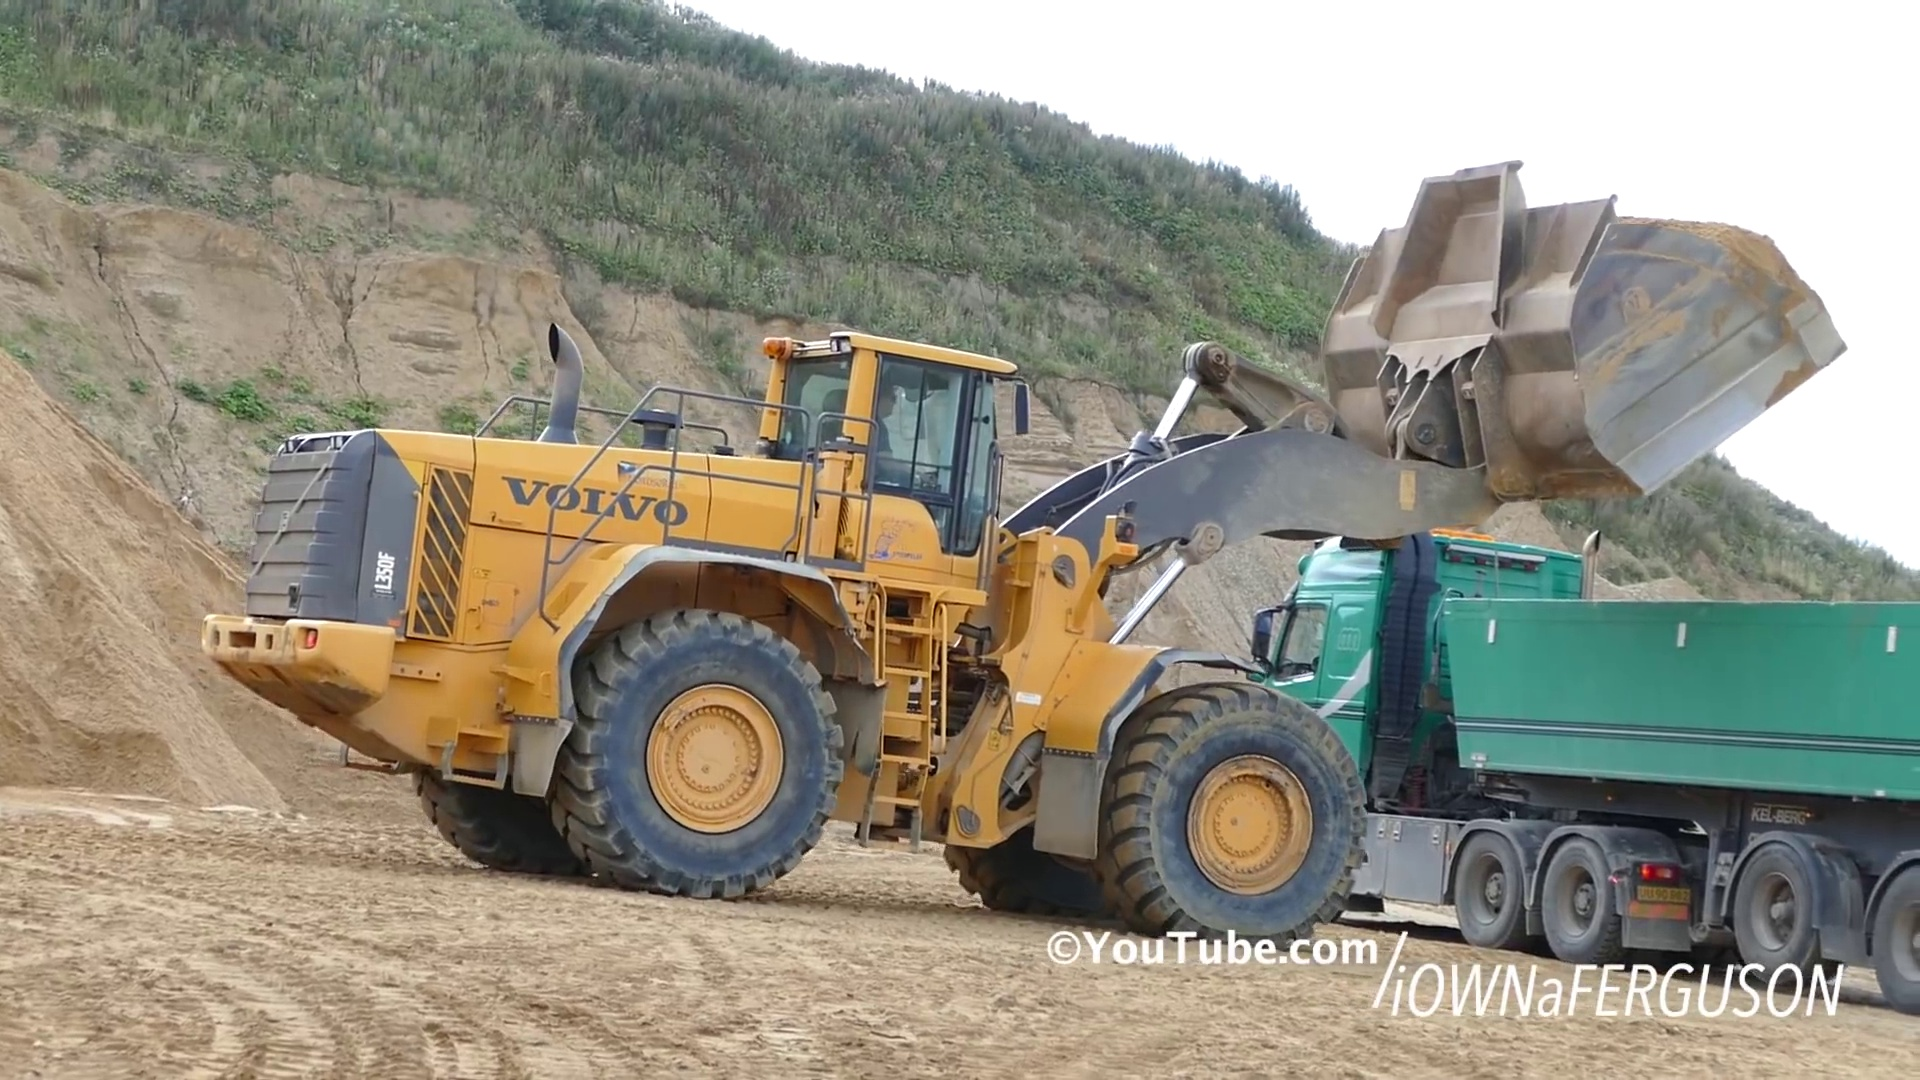truck: (1257, 537, 1920, 1007)
wheel loader: (202, 158, 1850, 964)
